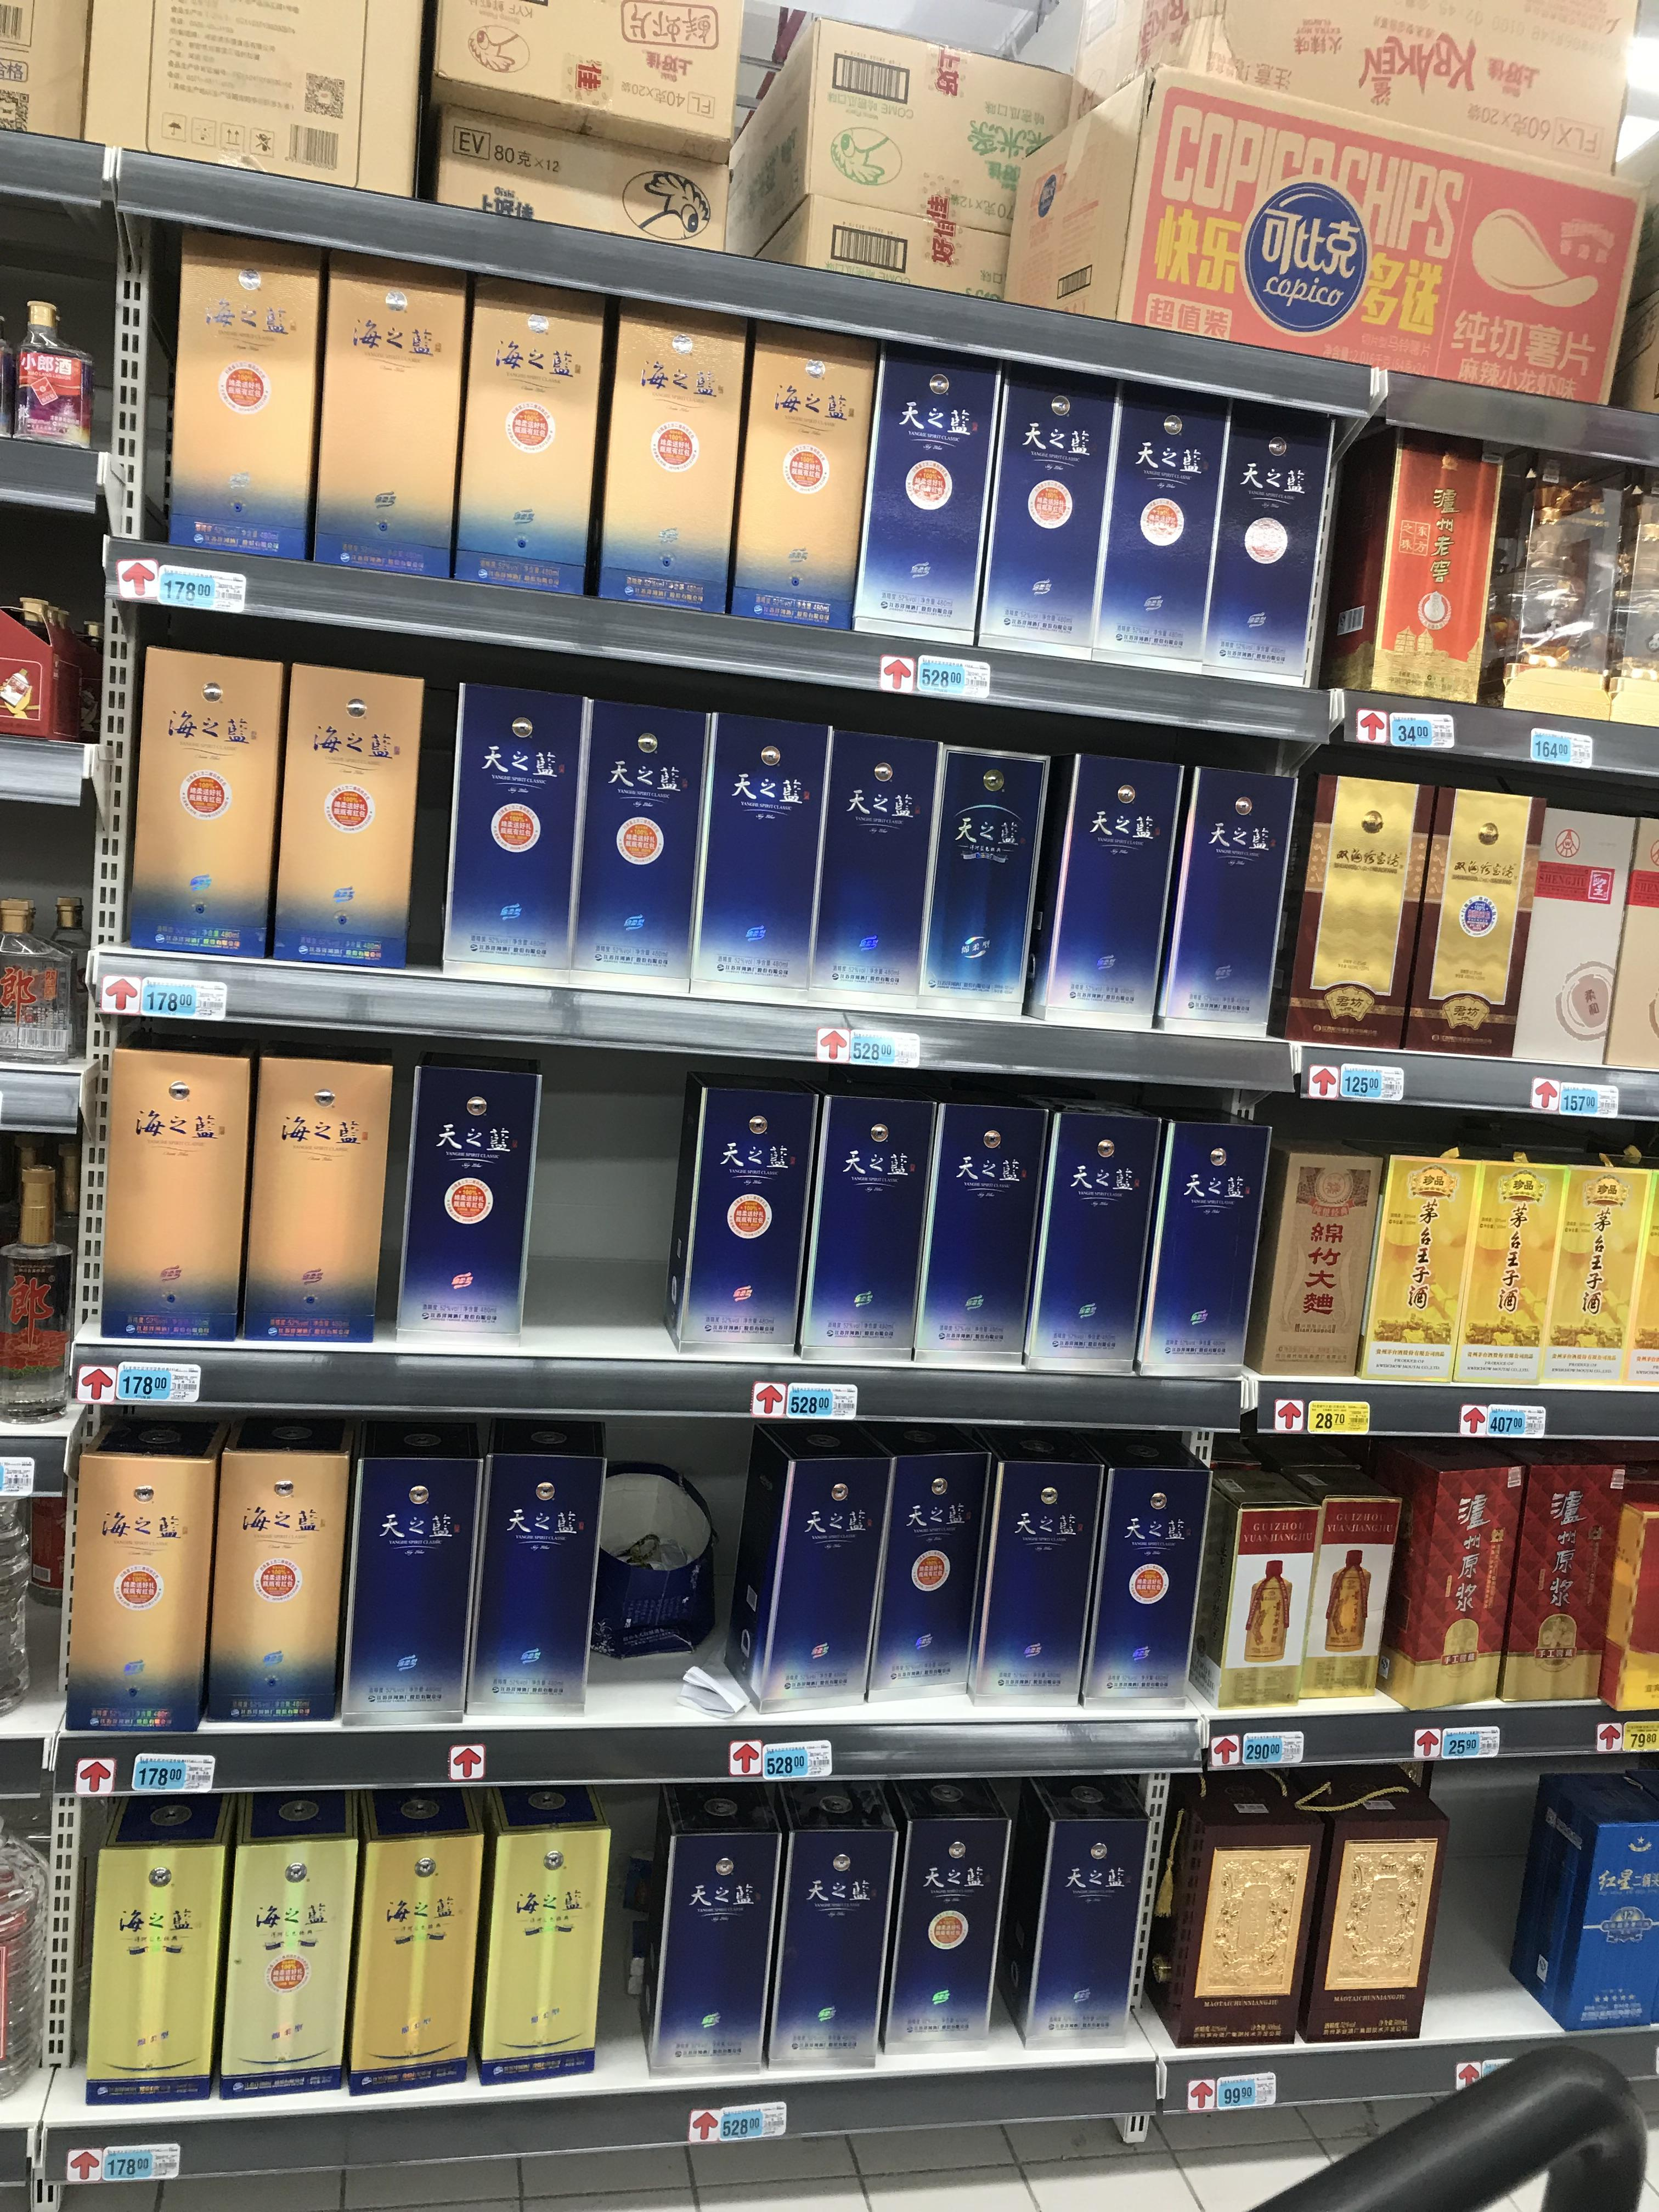bag: (423, 665, 587, 984), (854, 338, 1004, 641), (730, 324, 880, 627), (1331, 427, 1495, 702), (1201, 399, 1352, 691), (1166, 1770, 1326, 2045), (1094, 378, 1244, 669), (971, 361, 1114, 662), (1082, 1432, 1229, 1705), (1011, 1773, 1159, 2038), (647, 1773, 779, 2069), (1480, 458, 1622, 723)
bottle: (59, 1407, 213, 1730), (75, 1794, 232, 2106), (202, 1400, 349, 1726), (725, 1421, 882, 1717), (343, 1791, 488, 2099), (220, 1794, 364, 2102), (465, 1787, 606, 2088), (568, 693, 708, 991), (340, 1418, 474, 1726), (694, 716, 831, 1005), (1023, 1082, 1157, 1376), (875, 1777, 1016, 2055), (1302, 1764, 1445, 2040), (965, 1418, 1101, 1705), (765, 1782, 896, 2071), (805, 726, 936, 1014), (917, 747, 1051, 1019), (2, 902, 80, 1062), (10, 303, 98, 444)
box: (1011, 64, 1629, 413), (268, 651, 429, 975), (591, 289, 751, 608), (166, 235, 319, 568), (453, 266, 606, 597), (131, 639, 286, 965), (307, 253, 462, 578), (1025, 742, 1182, 1033), (396, 1043, 540, 1346), (664, 1071, 810, 1359), (1274, 779, 1427, 1052), (471, 1411, 603, 1721), (1495, 1454, 1642, 1707), (1168, 765, 1305, 1033), (1378, 1447, 1521, 1703), (917, 1076, 1037, 1369), (1396, 787, 1527, 1054), (1514, 798, 1640, 1069), (1148, 1103, 1270, 1379), (871, 1421, 983, 1705), (1244, 1136, 1375, 1376), (809, 1071, 917, 1360), (730, 195, 1018, 301), (1202, 1463, 1307, 1707), (1364, 1148, 1473, 1372), (1288, 1470, 1391, 1703), (1528, 1150, 1633, 1371), (1450, 1150, 1546, 1367), (1588, 1456, 1657, 1716), (1581, 1144, 1656, 1367)
bucket: (577, 1460, 716, 1686)
jar: (84, 1047, 247, 1353), (239, 1047, 390, 1345), (2, 1200, 78, 1421)
others: (721, 14, 1131, 232), (77, 0, 418, 204), (408, 0, 789, 164), (415, 96, 749, 260), (1516, 1773, 1657, 2038), (0, 587, 82, 745), (0, 0, 84, 146)
